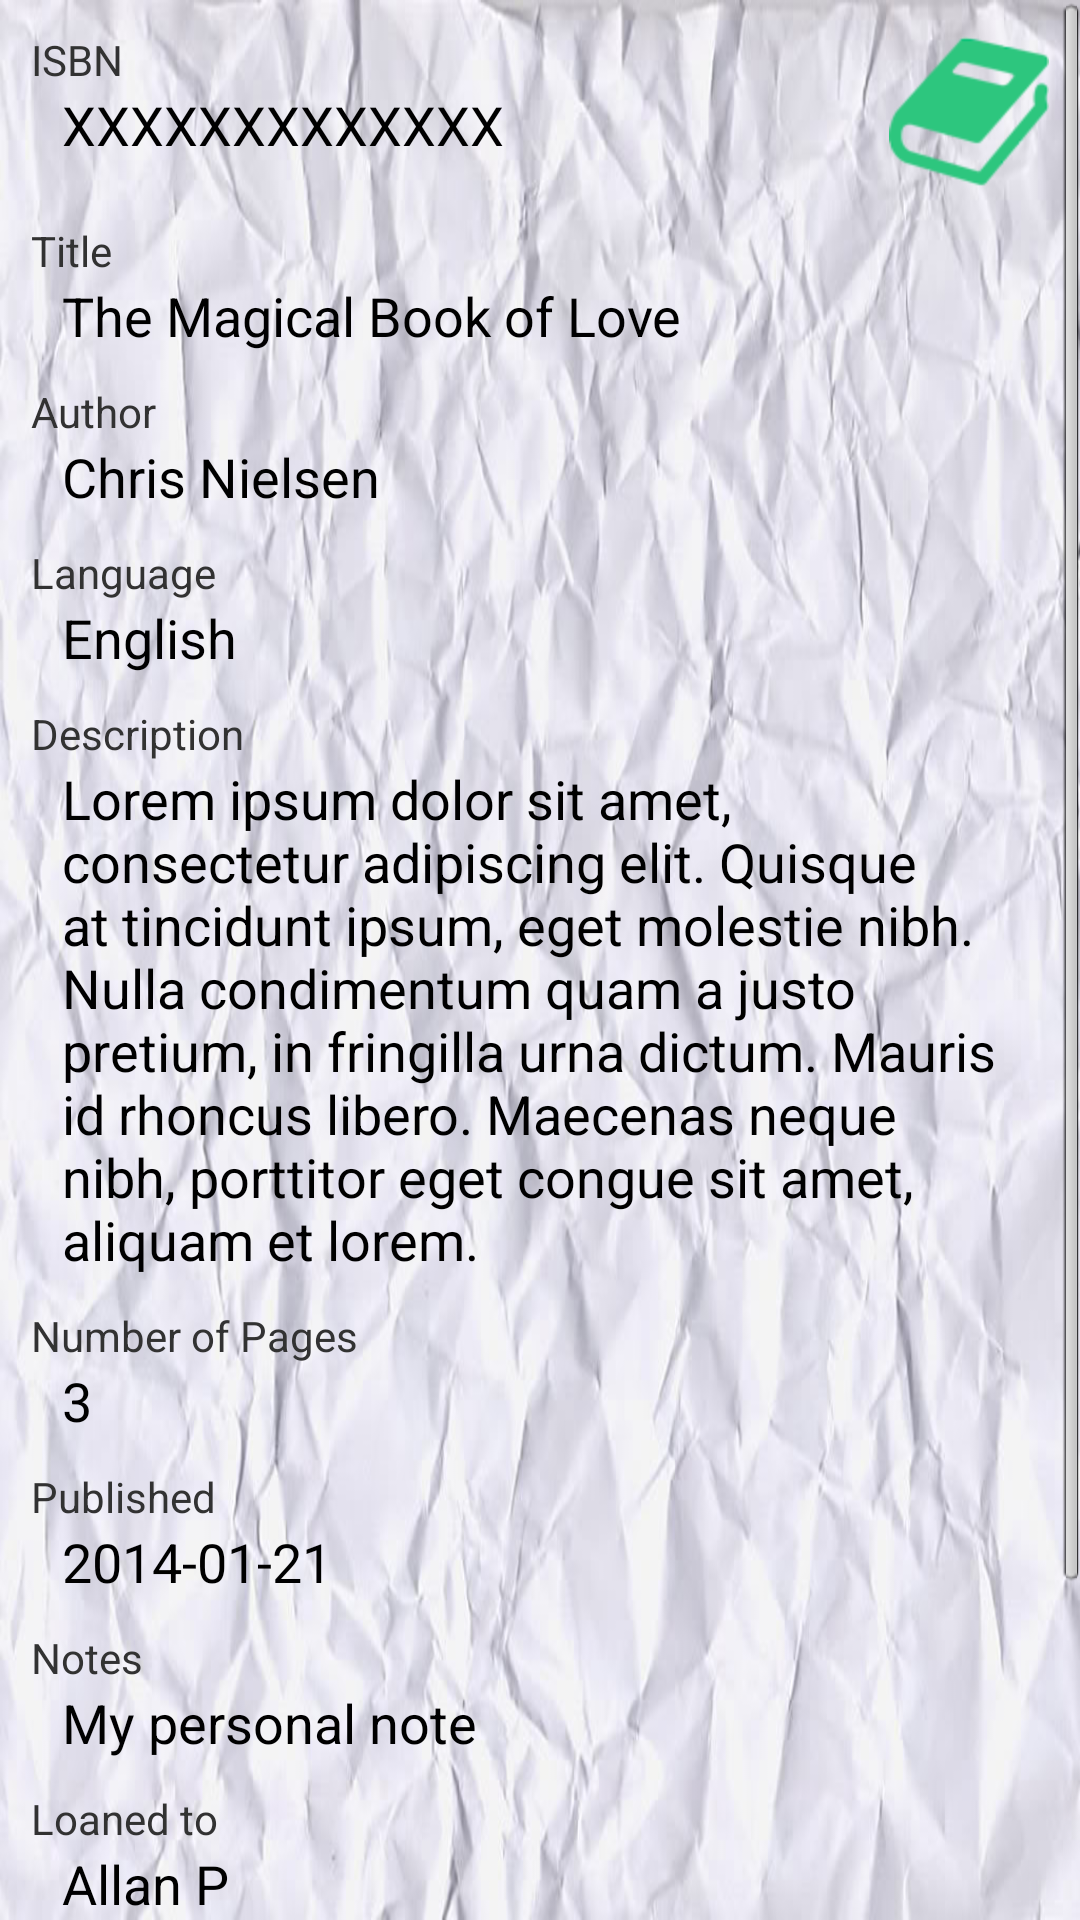

Where to tap for icons on this 1080*1920 app screen, as (x=x, y=y):
book: (x=969, y=111)
